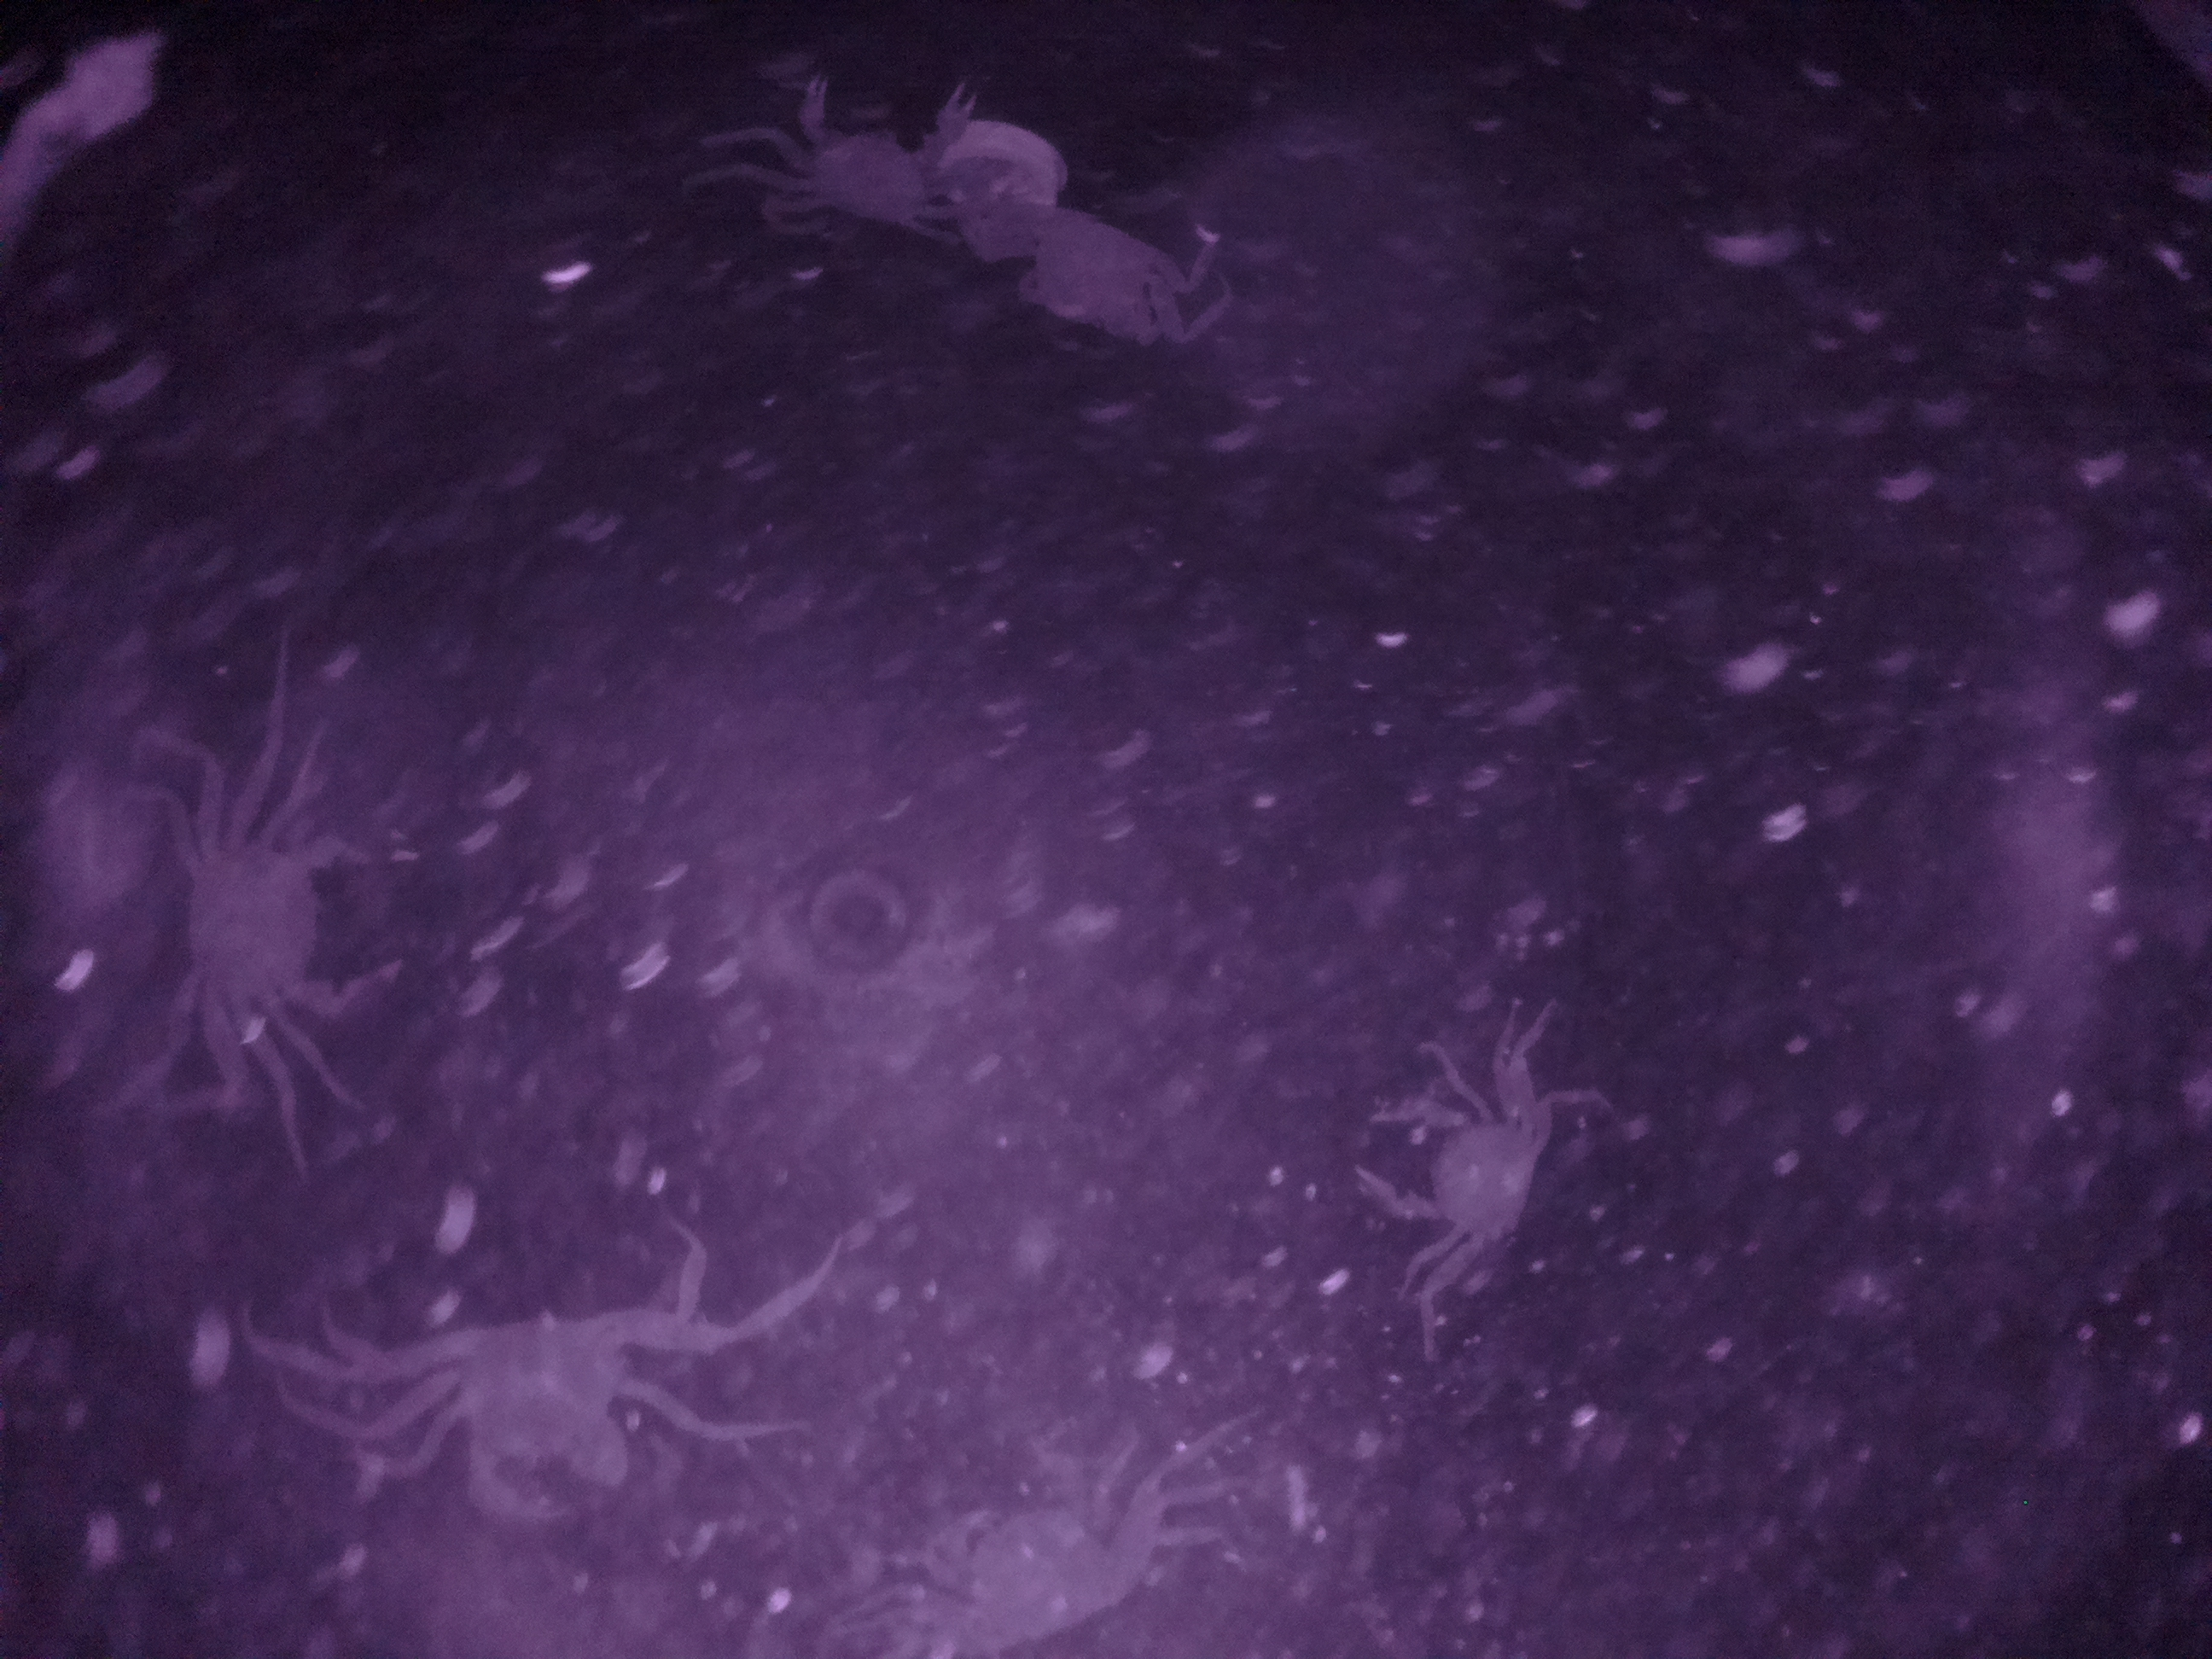Crab: (129, 800, 479, 1080), (380, 1276, 718, 1539), (1324, 1063, 1602, 1286), (744, 40, 974, 247)
